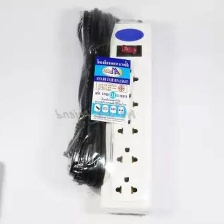three_eye_plug: (96, 14, 155, 216)
